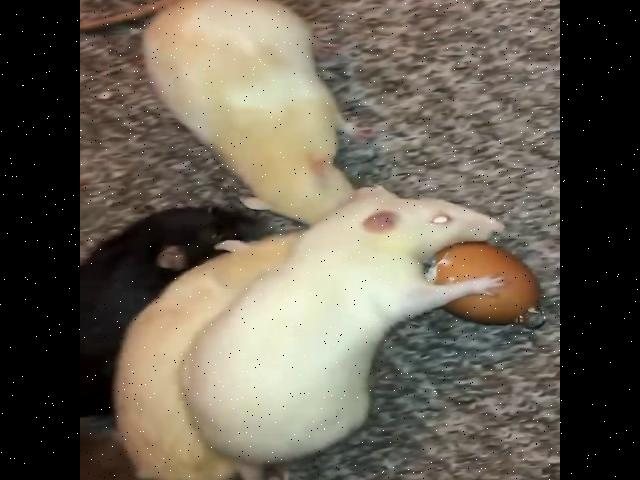Tikus: (196, 193, 502, 455), (156, 0, 350, 210), (84, 198, 244, 330)
